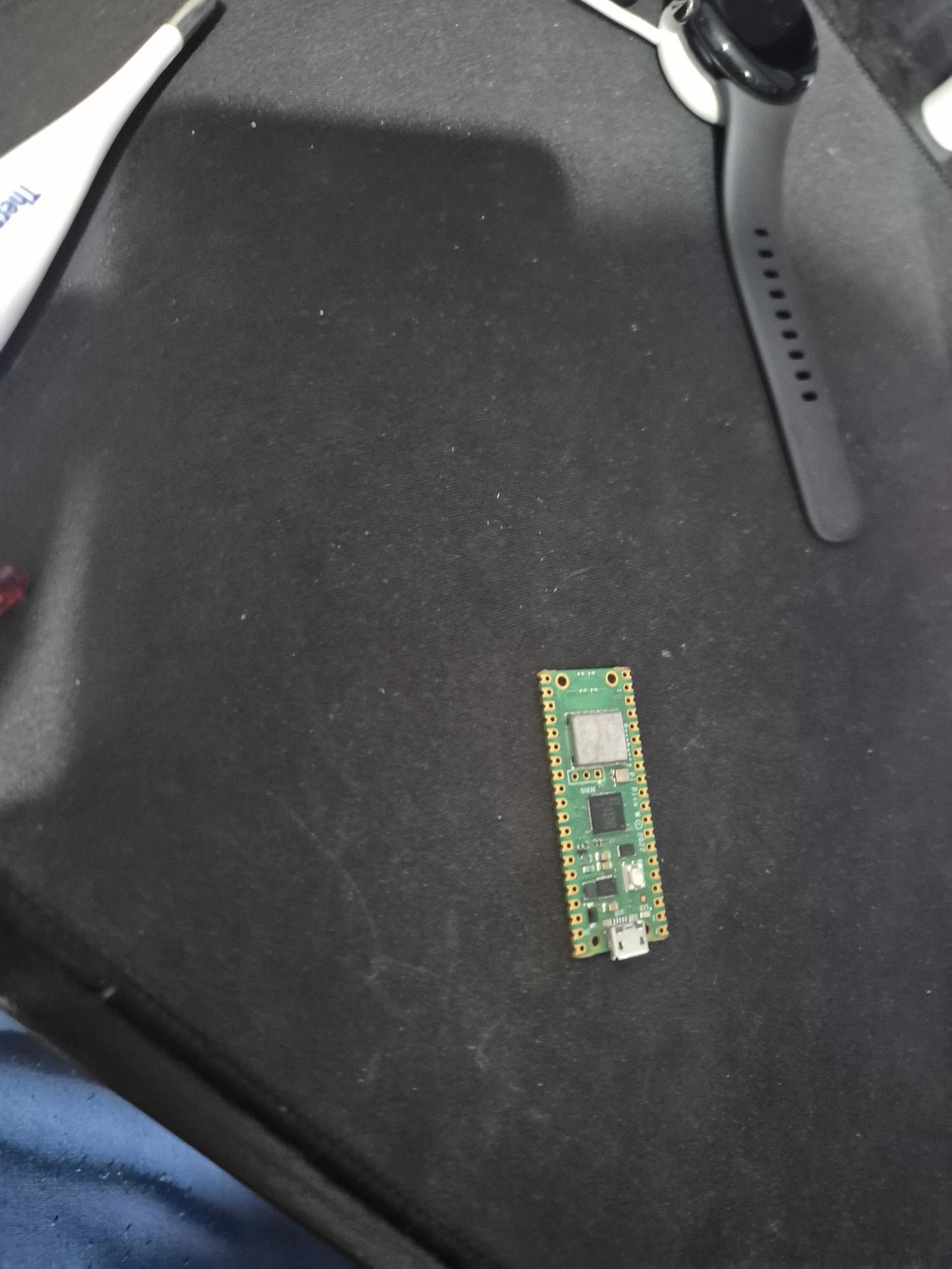raspberry-pi-pico-w: (536, 666, 668, 961)
